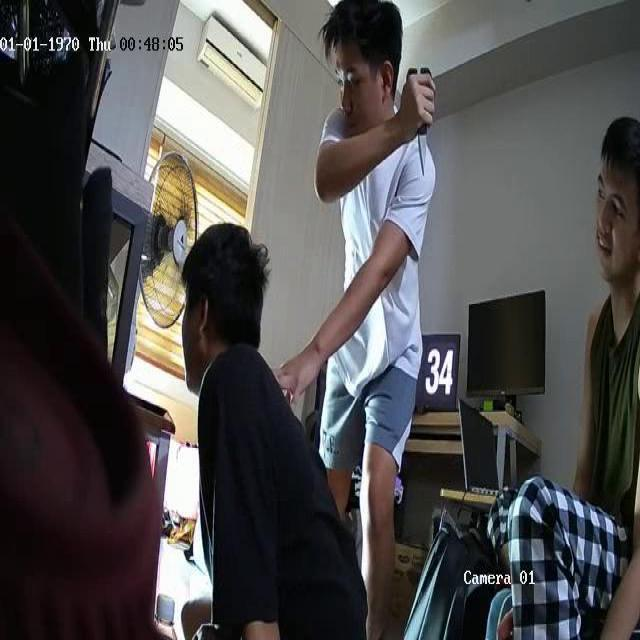scissor: (409, 69, 430, 172)
